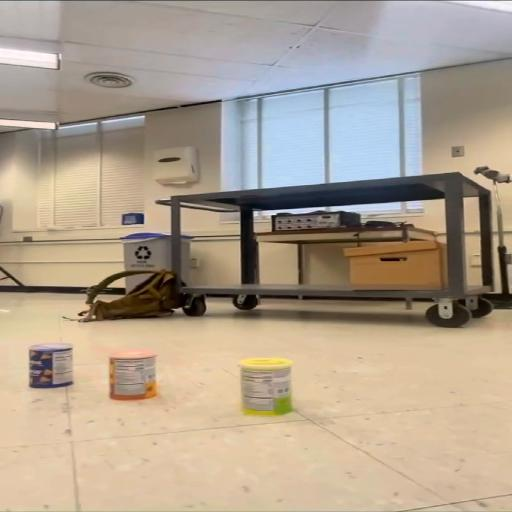pringle can: (237, 357, 296, 417), (26, 341, 76, 392), (110, 350, 158, 402)
